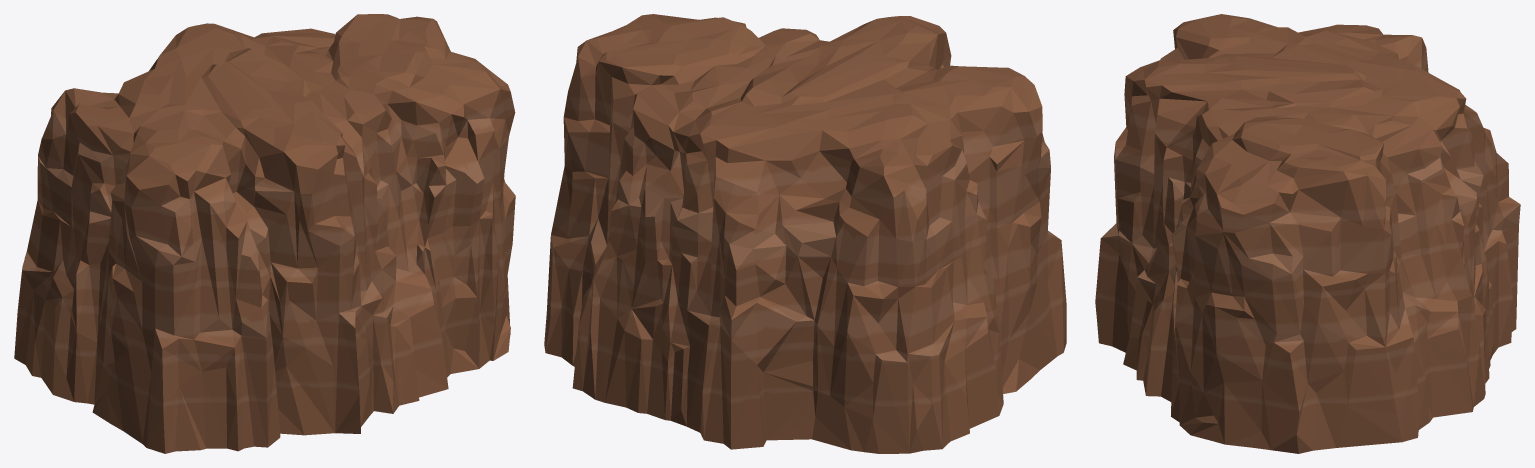
File: Roca_Decierto_grande_Level3.glb
3 views of the same model, side by side, from view 1: azimuth 30°, elevation 25°; view 2: azimuth 150°, elevation 25°; view 3: azimuth 270°, elevation 25° (orthographic). The views are drawn at different scales.
Visible parts, largest first — view 1: SM_Env_Butte_01.001; view 2: SM_Env_Butte_01.001; view 3: SM_Env_Butte_01.001.
Part boxes in pixels (x1,y1,x2,y2): SM_Env_Butte_01.001: (14, 14, 515, 453); SM_Env_Butte_01.001: (544, 14, 1066, 453); SM_Env_Butte_01.001: (1095, 14, 1520, 453).
Bounding box in the file's own units: 10.39 × 6.43 × 9.21.
1 material, 1 textured.
